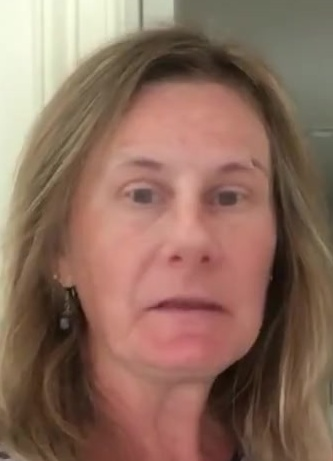eb_f: (104, 146, 273, 219)
